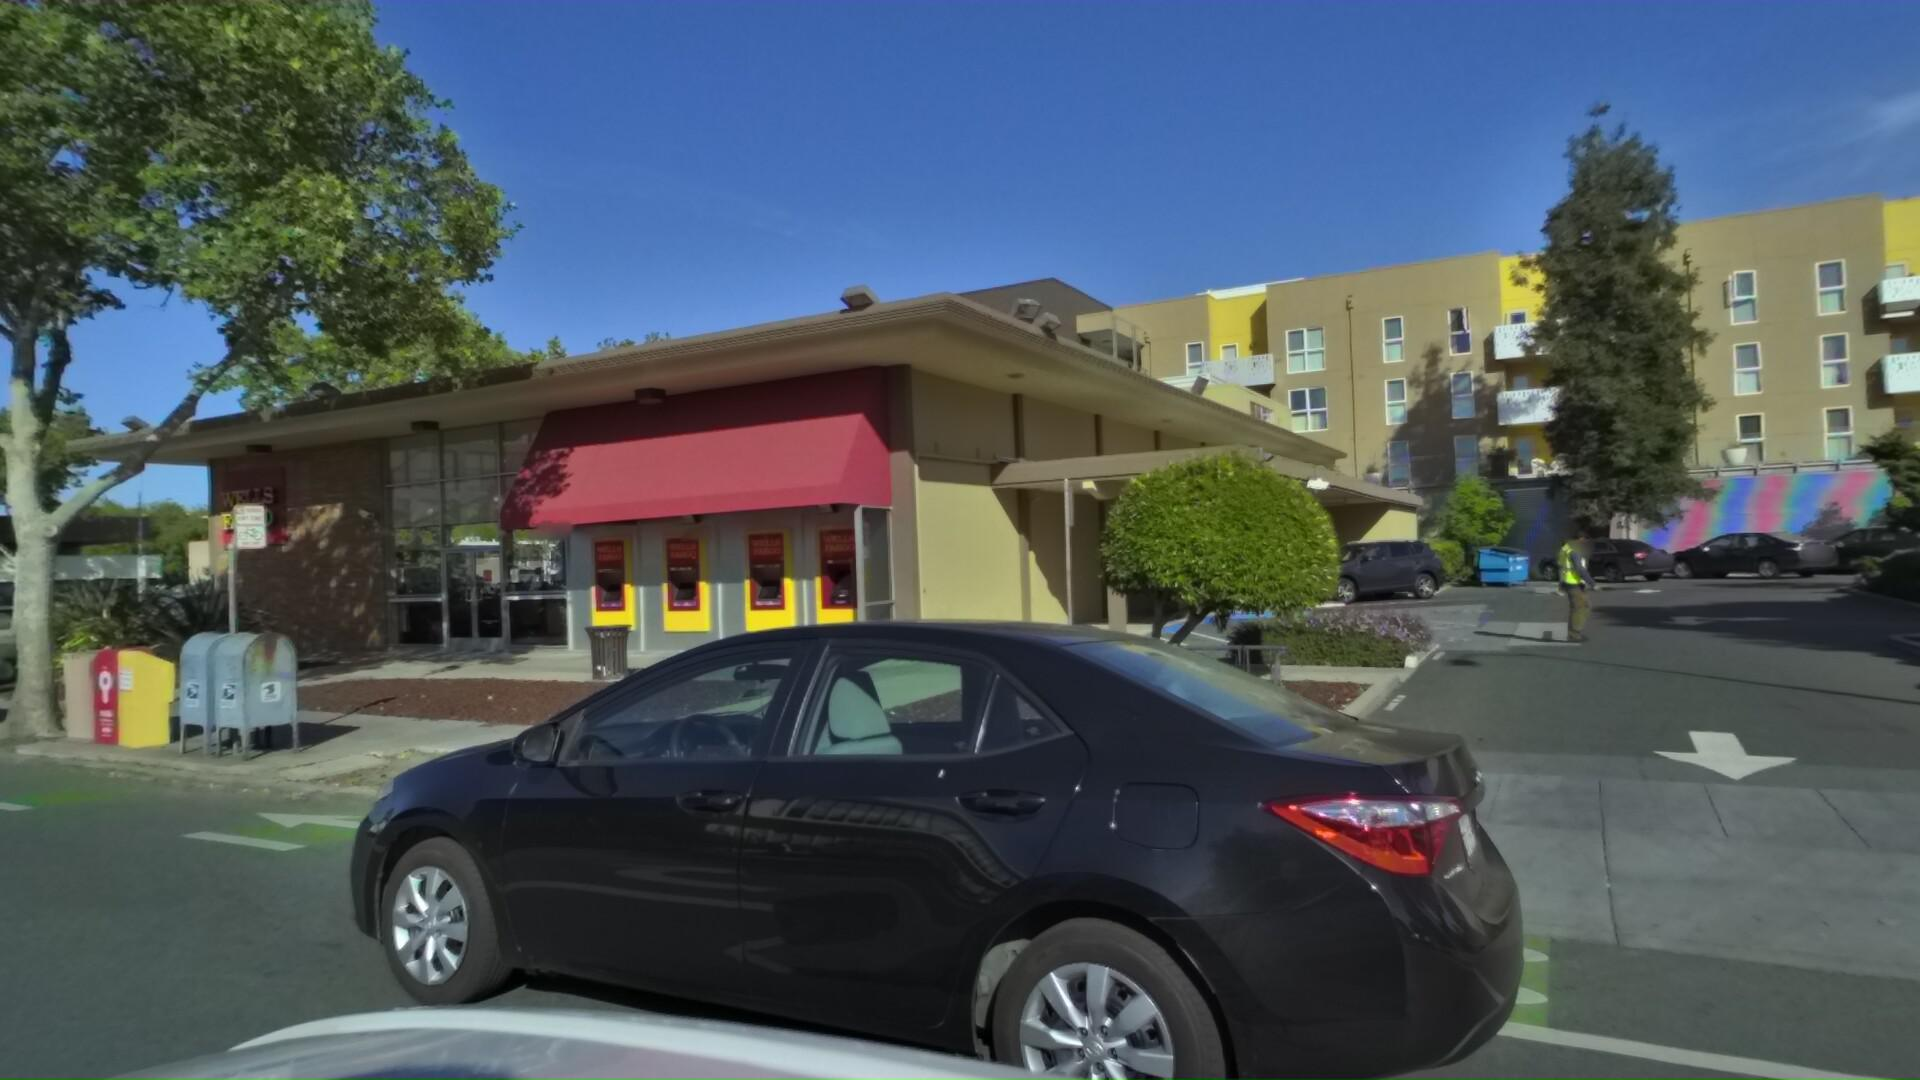car: (251, 585, 1549, 1080), (1269, 529, 1449, 603)
